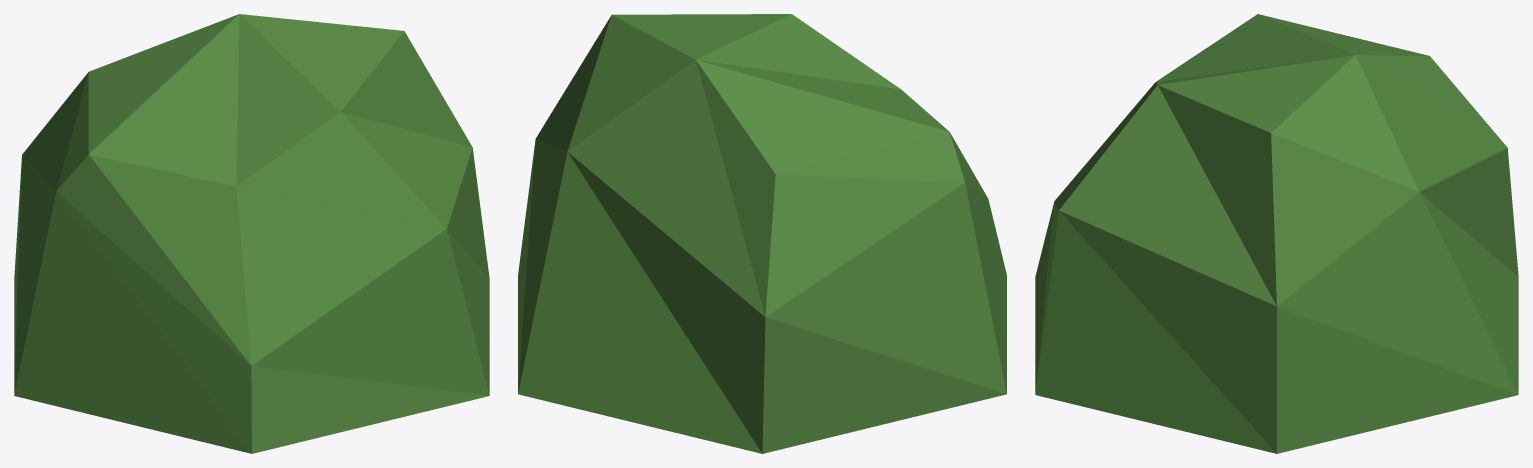
Rendered from Bush_2_Light.fbx.
3 views of the same model, side by side, from view 1: azimuth 30°, elevation 25°; view 2: azimuth 150°, elevation 25°; view 3: azimuth 270°, elevation 25° (orthographic). The views are drawn at different scales.
Visible parts, largest first — view 1: Bush_2_Light; view 2: Bush_2_Light; view 3: Bush_2_Light.
Boxes of the visible parts, bbox=[...] form: Bush_2_Light: bbox=[14, 14, 489, 453]; Bush_2_Light: bbox=[518, 14, 1006, 453]; Bush_2_Light: bbox=[1035, 14, 1518, 453].
Size of the model in its own units: 2 by 1.16 by 1.73.
